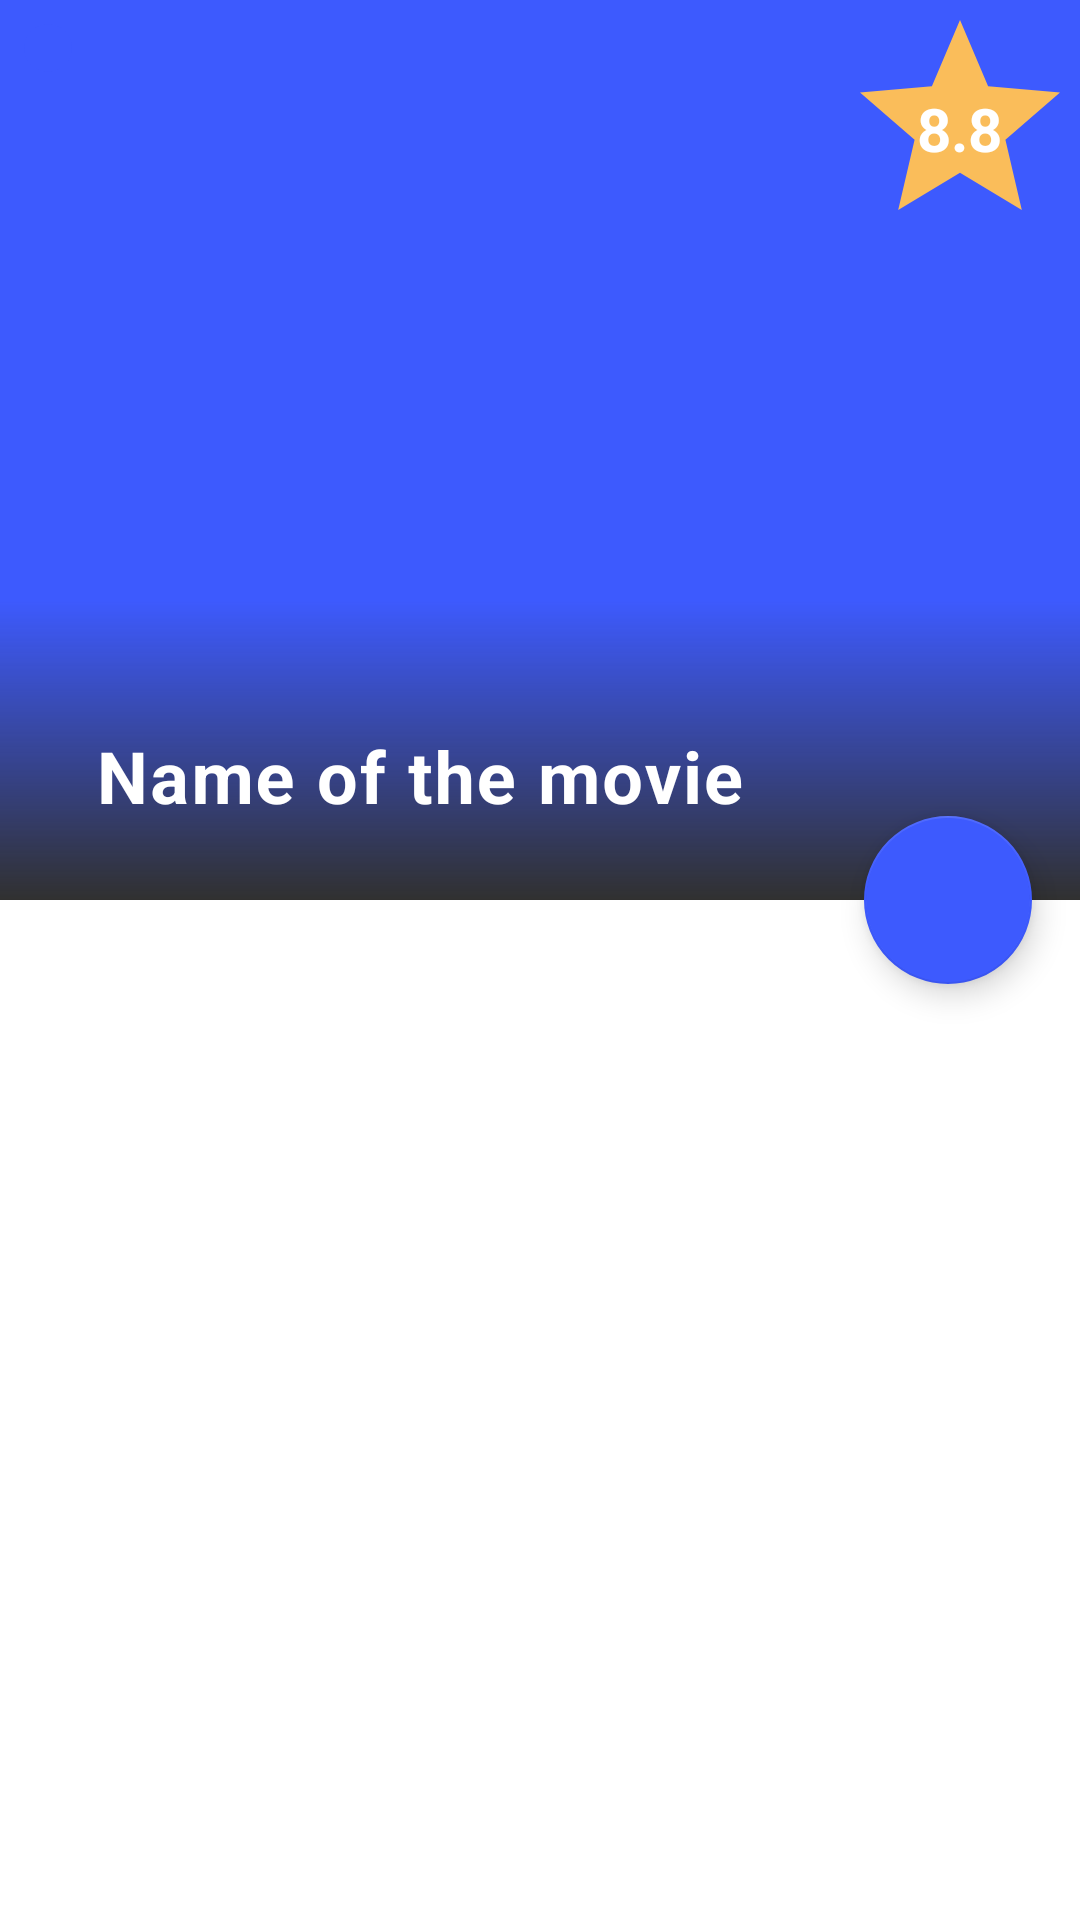

Icons on this 1080*1920 Android screen, each with its box as {"x1": x1, "y1": y1, "x2": x2, "y2": y2}:
star: {"x1": 860, "y1": 20, "x2": 1060, "y2": 210}
